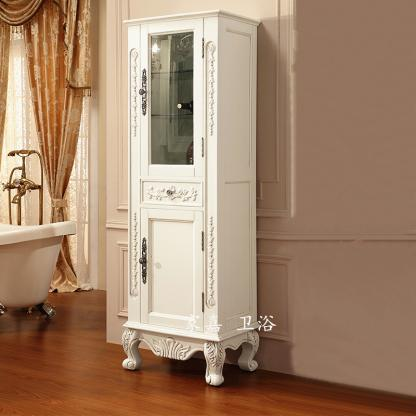Cupboard: (120, 10, 262, 387)
